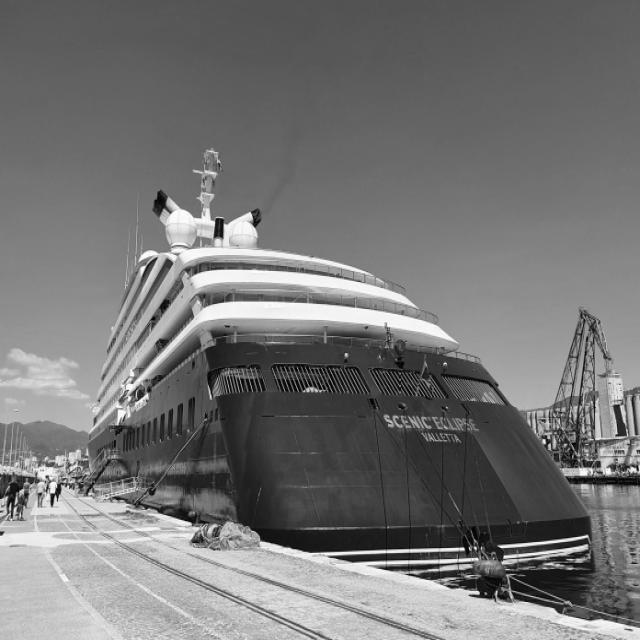cruises: (77, 143, 601, 593)
